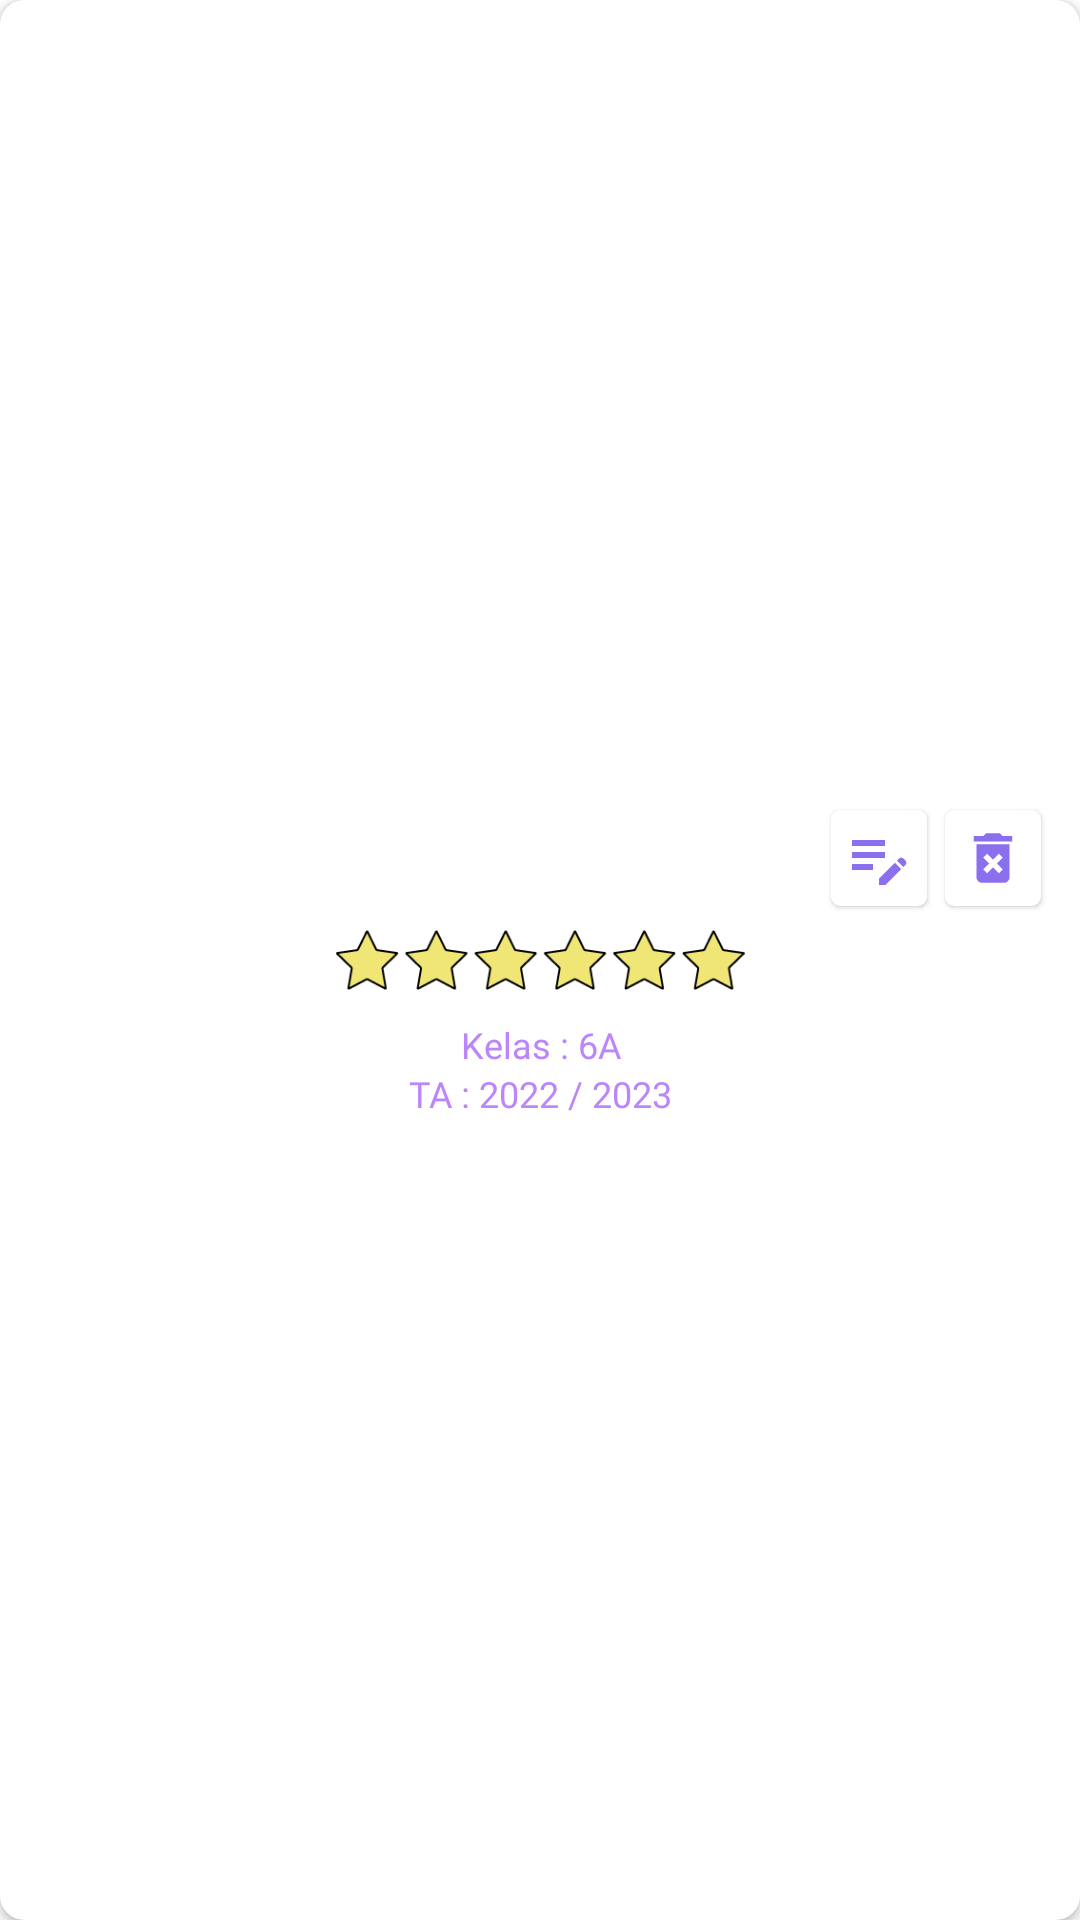

Locate icon controls on the screen. Image size 1080x1920, boxes as (x1=x1, y1=y1, x2=x2, y2=y2).
delete: (x1=973, y1=833, x2=1013, y2=883)
edit: (x1=852, y1=840, x2=907, y2=885)
